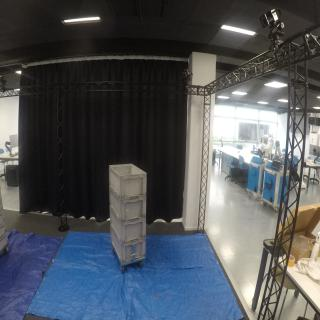Box4G: (110, 206, 149, 246), (111, 224, 148, 266), (110, 186, 149, 225), (109, 164, 148, 201)
